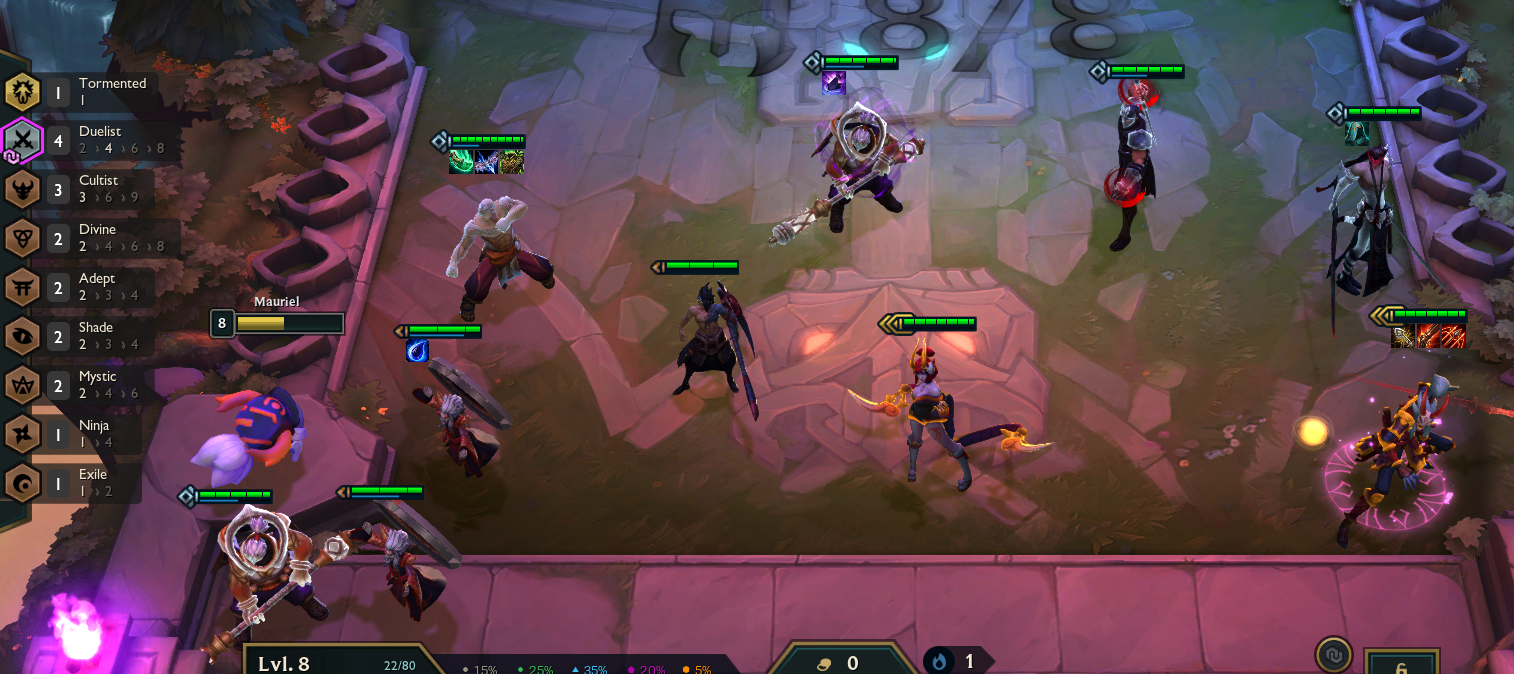1star_kayn: (641, 252, 780, 428)
1star_zilean: (333, 438, 477, 653), (383, 316, 522, 492)
2star_jax: (755, 38, 942, 280), (169, 450, 352, 666)
2star_leesin: (424, 116, 568, 331)
2star_shen: (1061, 49, 1197, 278)
2star_yone: (1291, 82, 1473, 352)
3star_evelynn: (837, 294, 1060, 508)
3star_kalista: (1295, 296, 1494, 557)
item_ie: (1388, 319, 1418, 349)
item_rfc: (1413, 320, 1443, 350)
item_runaan: (1439, 319, 1469, 349)
item_shojin: (445, 145, 475, 175)
item_spark: (471, 145, 501, 175)
item_tear: (401, 335, 431, 365)
item_warmogs: (497, 146, 527, 176)
item_zzrot: (819, 68, 849, 98)
trait_adept2: (1, 263, 192, 315)
trait_cultist3: (1, 161, 192, 213)
trait_divine2: (1, 210, 192, 262)
trait_duelist4: (1, 116, 192, 168)
trait_duelist_chosen: (1, 113, 47, 166)
trait_exile1: (1, 455, 192, 507)
trait_mystic2: (1, 357, 192, 409)
trait_ninja1: (1, 404, 192, 456)
trait_shade2: (1, 309, 192, 361)
trait_tormented1: (1, 64, 192, 116)
